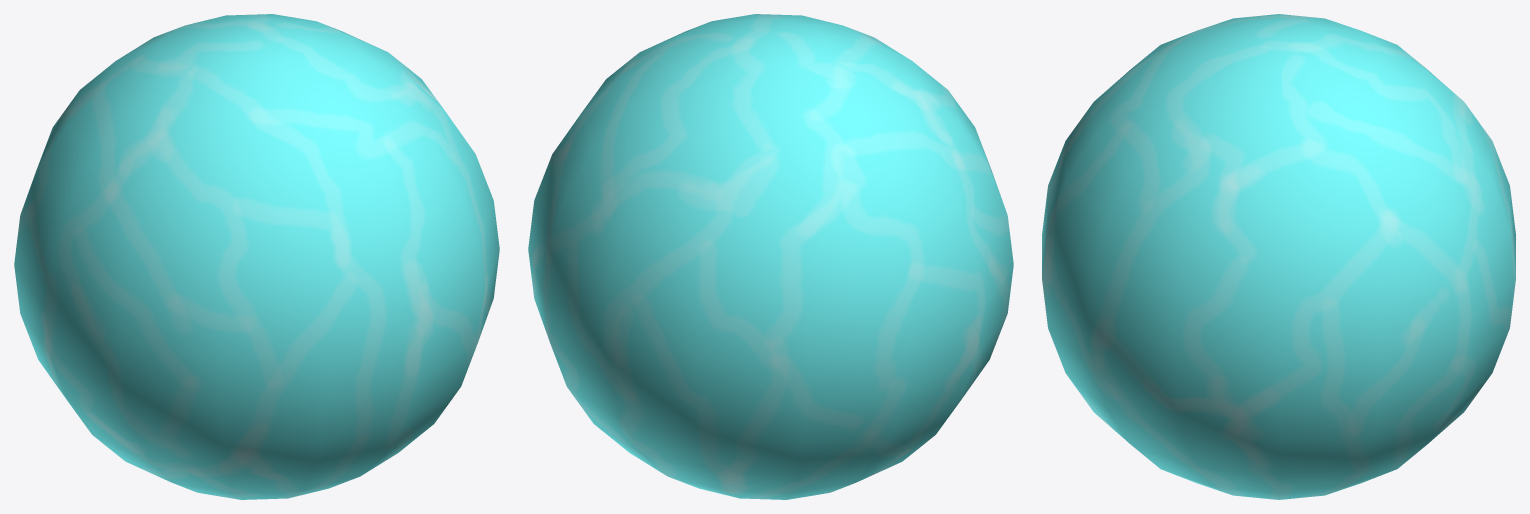
File: Orbe.fbx
The picture shows the model from 3 angles, left to right: view 1: azimuth 30°, elevation 25°; view 2: azimuth 150°, elevation 25°; view 3: azimuth 270°, elevation 25°; orthographic projection.
Parts seen in each view (by area): view 1: Orbe; view 2: Orbe; view 3: Orbe.
Part boxes in pixels (x1,y1,x2,y2): Orbe: (14, 14, 499, 499); Orbe: (528, 14, 1013, 499); Orbe: (1042, 14, 1515, 499).
Bounding box in the file's own units: 13.81 × 13.81 × 13.46.
1 material, 1 textured.
